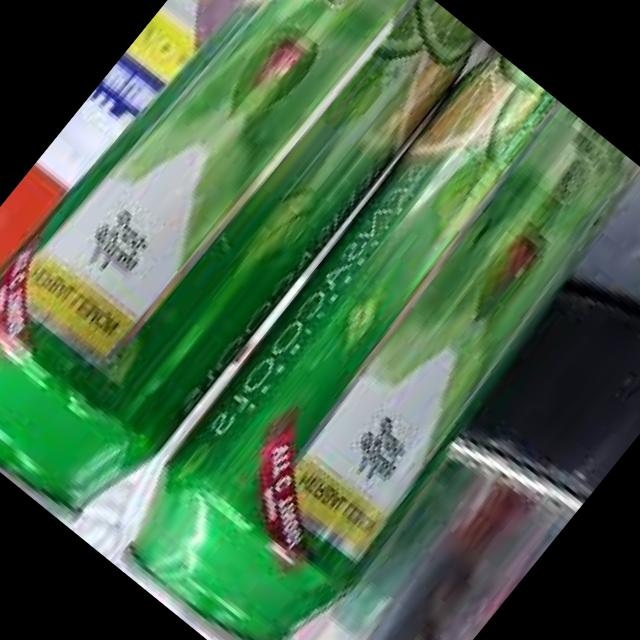ademsarikaleng: (94, 51, 640, 640), (0, 0, 487, 541)
